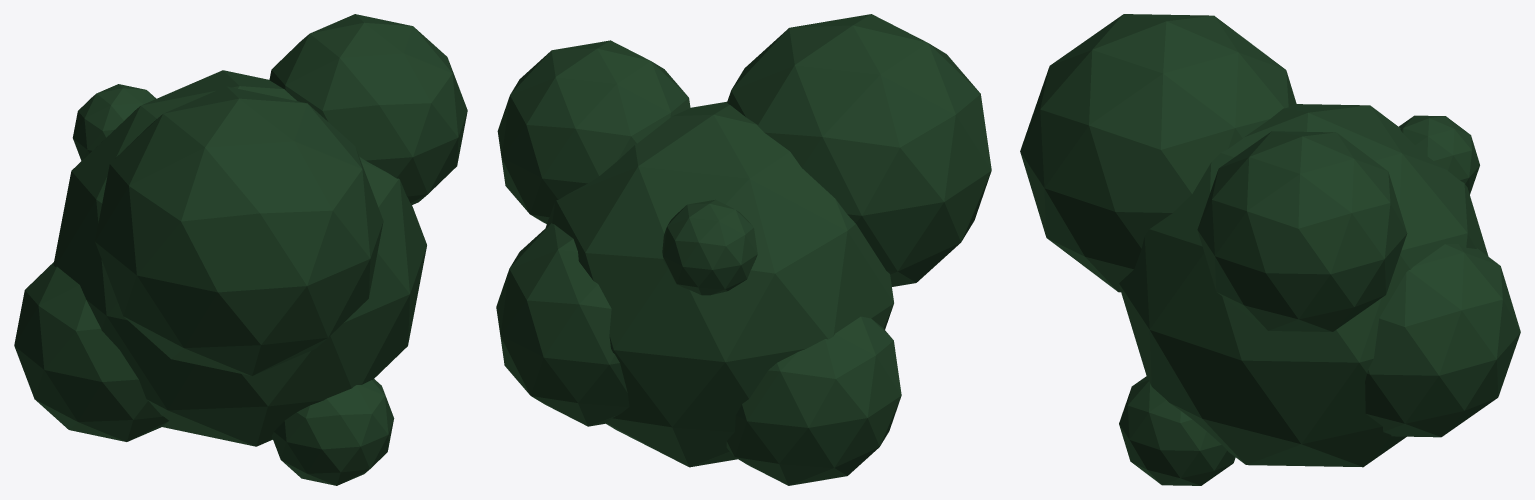
File: germ2.fbx
3 views of the same model, side by side, from view 1: azimuth 30°, elevation 25°; view 2: azimuth 150°, elevation 25°; view 3: azimuth 270°, elevation 25° (orthographic). The views are drawn at different scales.
Visible parts, largest first — view 1: Icosphere.001; view 2: Icosphere.001; view 3: Icosphere.001.
Boxes of the visible parts, bbox=[...] form: Icosphere.001: bbox=[14, 14, 467, 485]; Icosphere.001: bbox=[496, 14, 991, 485]; Icosphere.001: bbox=[1020, 14, 1520, 485].
Size of the model in its own units: 210 by 206 by 226.
